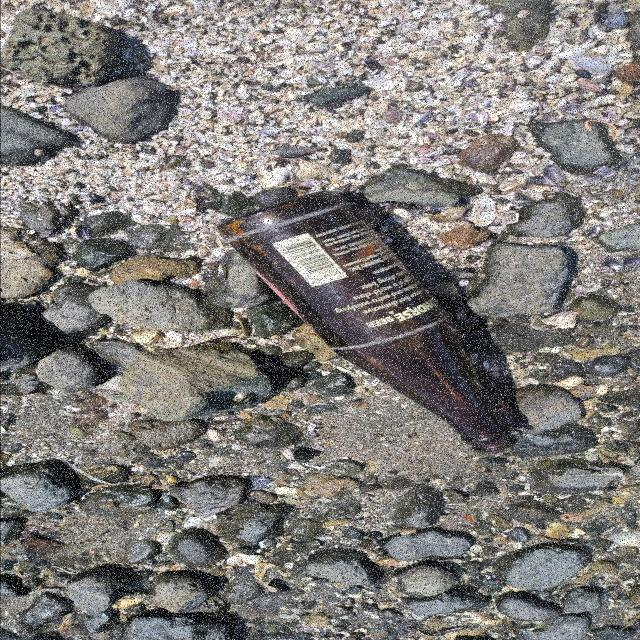glass_waste: (214, 192, 519, 454)
